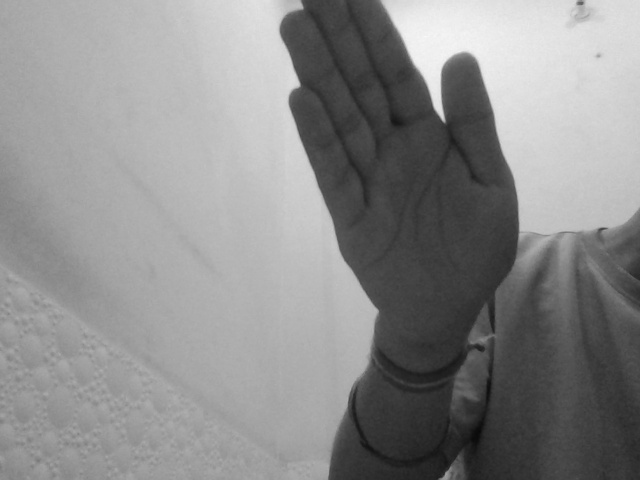Hello: (274, 1, 521, 339)
